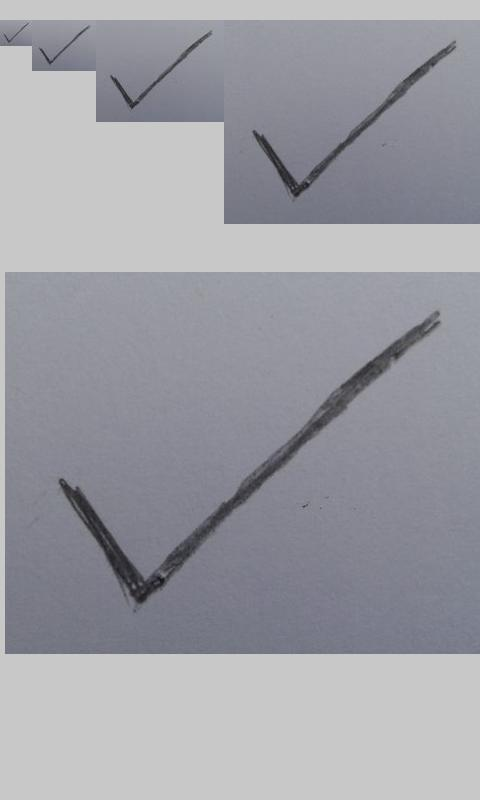check_box: (61, 314, 440, 606), (253, 41, 455, 198), (111, 31, 211, 109), (40, 26, 89, 64), (3, 24, 26, 43)
